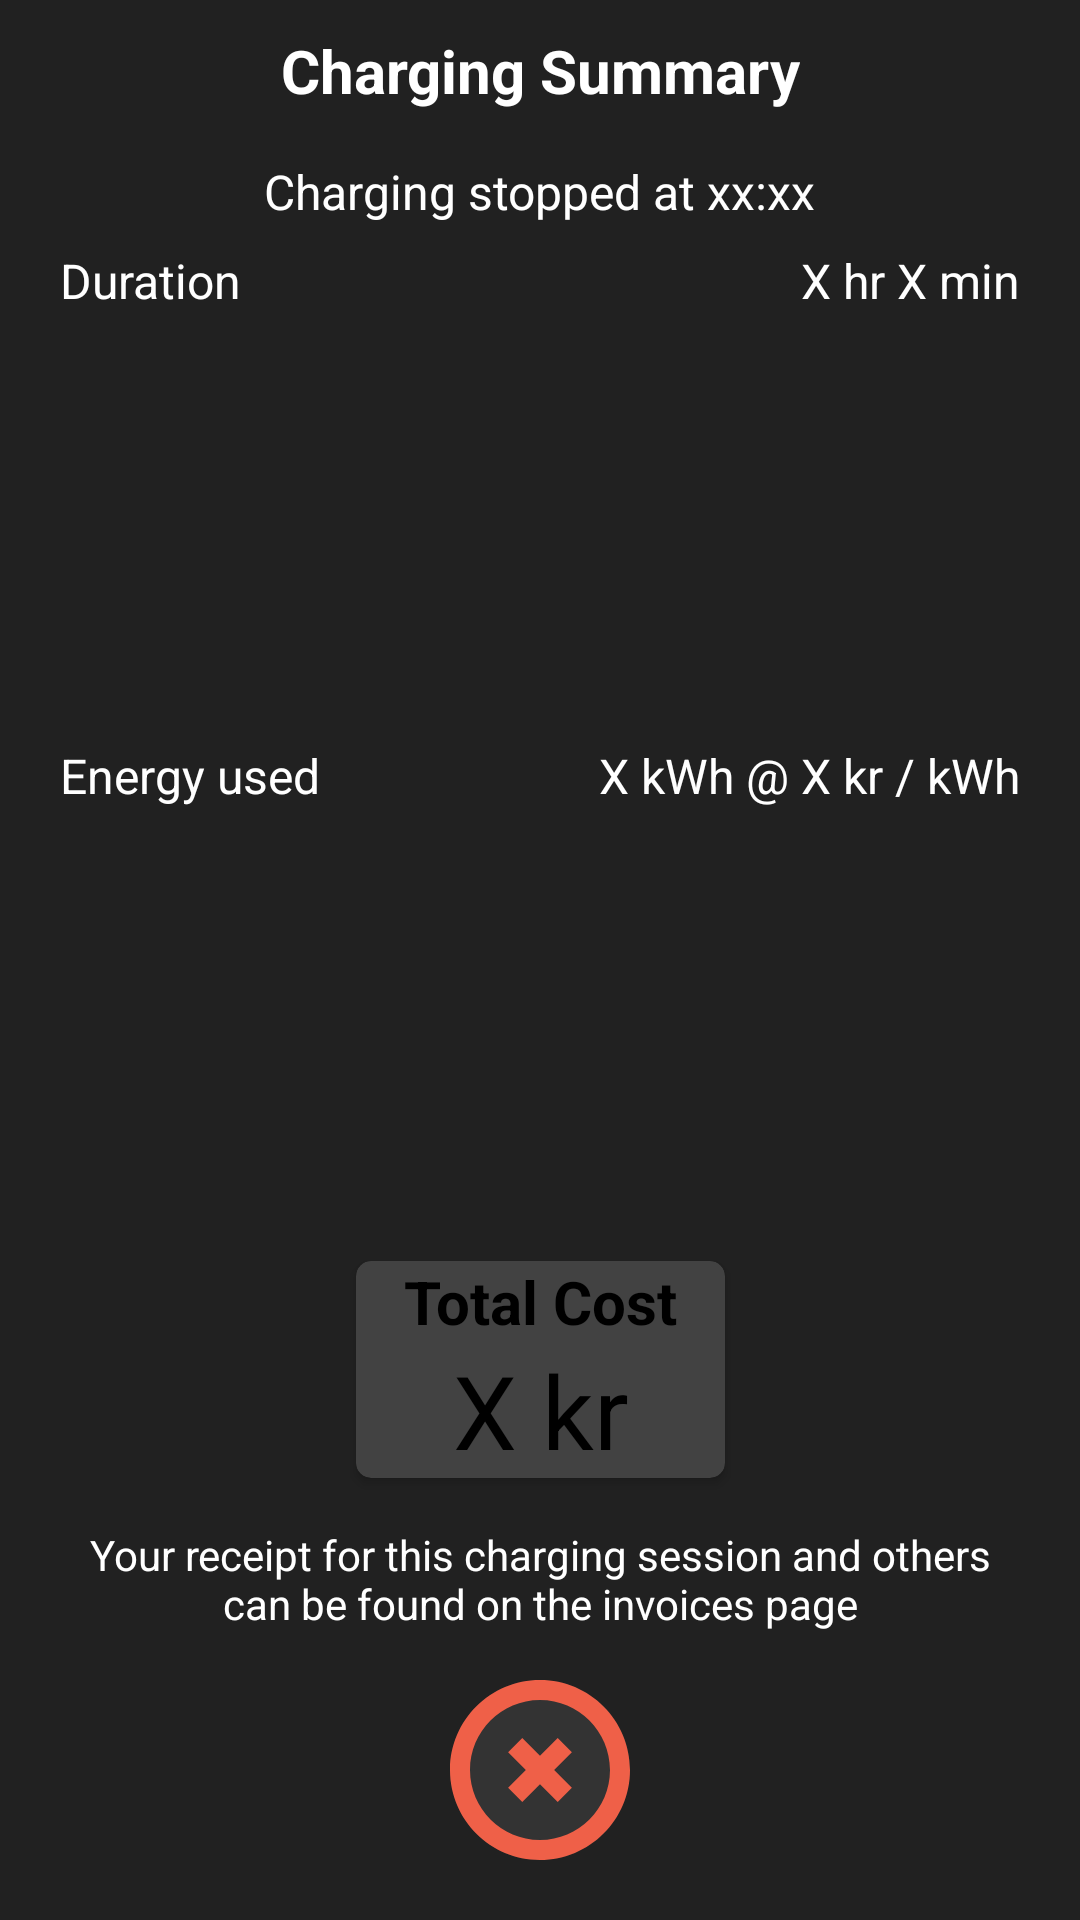

Icons on this 1080 × 1920 Android screen, each with its box as (x1, y1, x2, y2):
cross: (450, 1680, 630, 1860)
